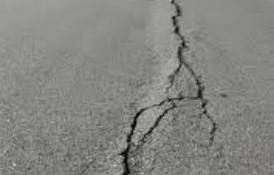crack: (119, 0, 221, 174)
